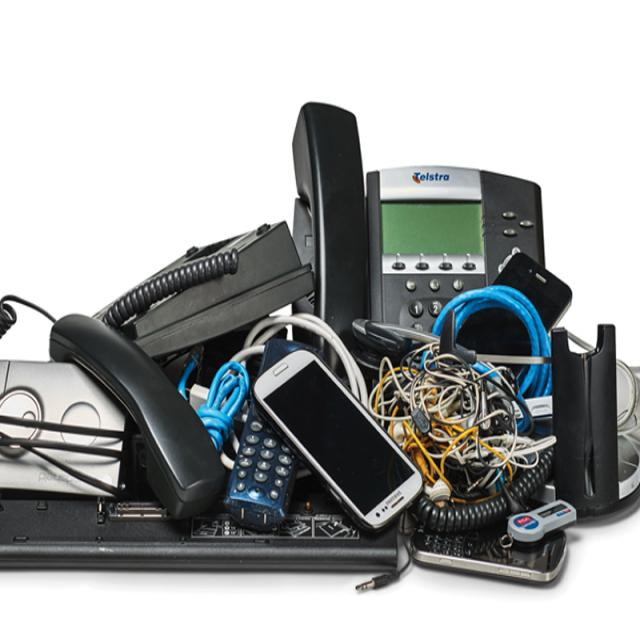metel: (249, 334, 425, 540)
